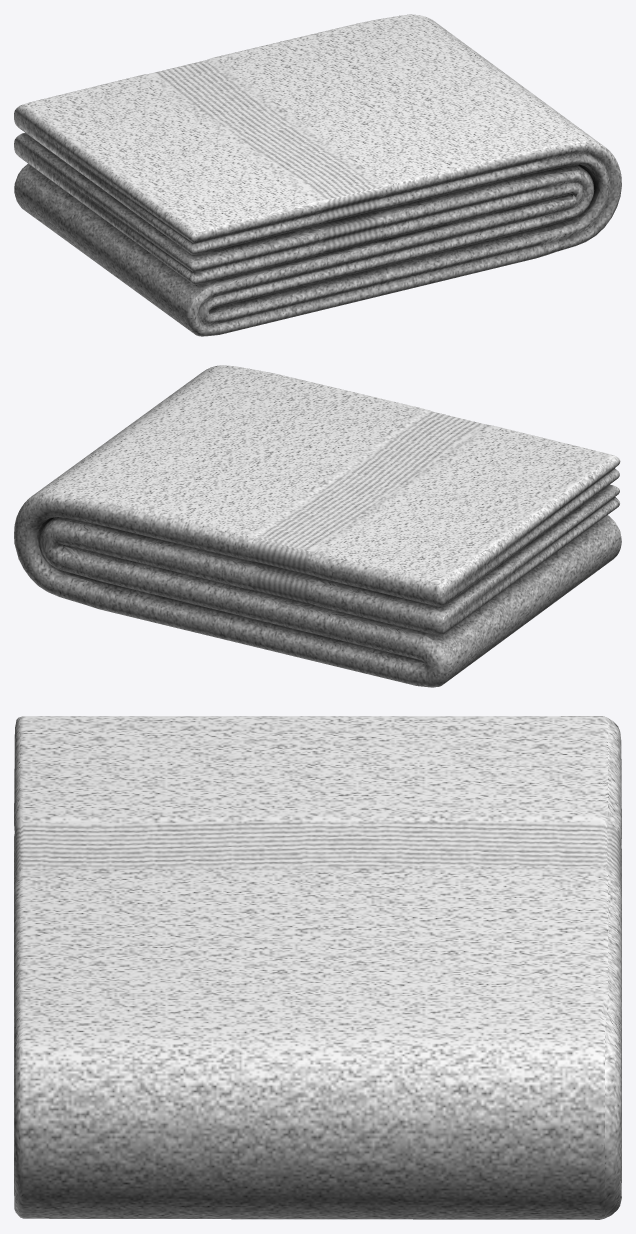
File: Towel.fbx
3 renders of one model, top to bottom at view 1: azimuth 30°, elevation 25°; view 2: azimuth 150°, elevation 25°; view 3: azimuth 270°, elevation 25°, orthographic. The views are drawn at different scales.
Visible parts, largest first — view 1: Default; view 2: Default; view 3: Default.
Part boxes in pixels (x1,y1,x2,y2): Default: [14, 14, 621, 336]; Default: [14, 365, 621, 687]; Default: [14, 716, 621, 1219].
Bounding box in the file's own units: 17.53 × 4.3 × 12.55.
Materials: 1 (1 with a texture image).
